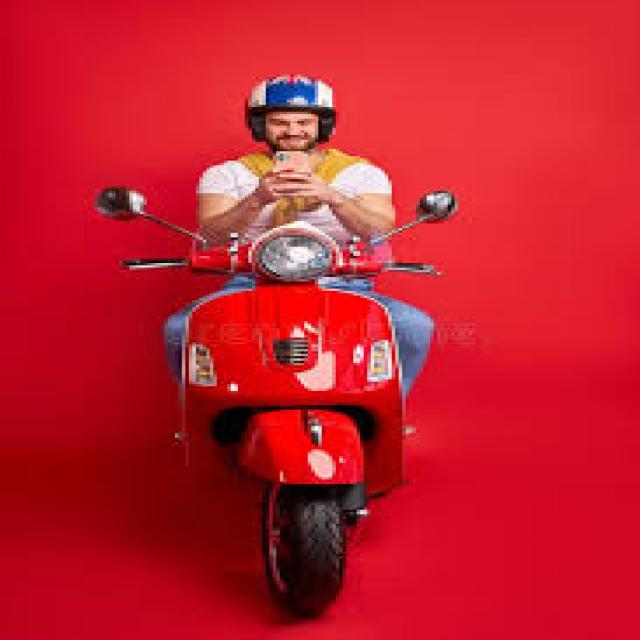Usage Of Phone While Riding: (129, 27, 455, 261)
